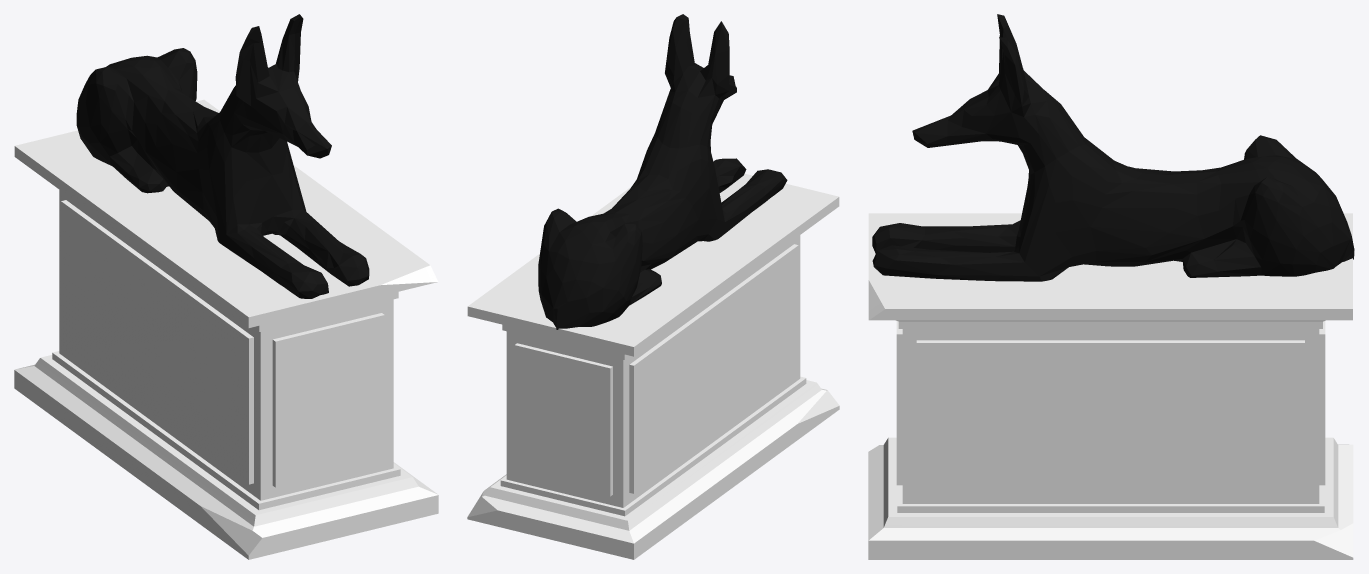
The model's file is SM_statue_jackal.fbx.
The picture shows the model from 3 angles, left to right: view 1: azimuth 30°, elevation 25°; view 2: azimuth 150°, elevation 25°; view 3: azimuth 270°, elevation 25°; orthographic projection. The views are drawn at different scales.
Visible parts, largest first — view 1: Object020; view 2: Object020; view 3: Object020.
Part boxes in pixels (x1=…): Object020: x1=14, y1=14, x2=438, y2=559; Object020: x1=467, y1=14, x2=839, y2=559; Object020: x1=868, y1=14, x2=1354, y2=559.
Bounding box in the file's own units: 49.67 × 106 × 118.
